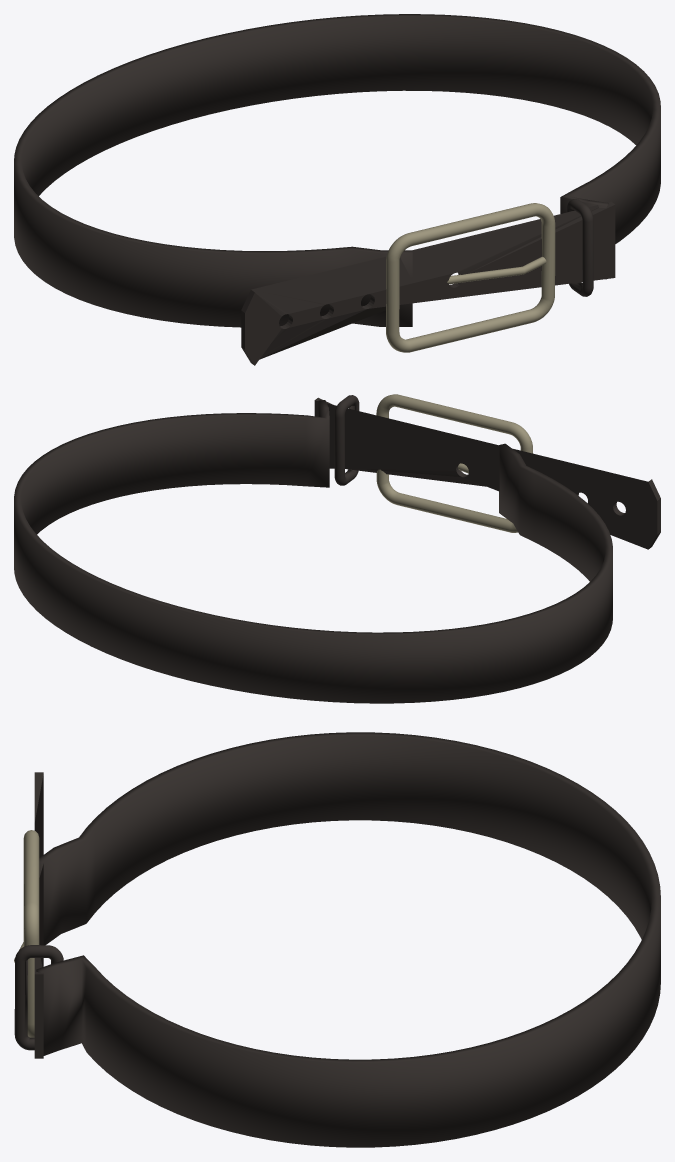
The model's file is A-NEW-20261027-WAIST-BELT-001_LOD0_R4.glb.
3 renders of one model, top to bottom at view 1: azimuth 30°, elevation 25°; view 2: azimuth 150°, elevation 25°; view 3: azimuth 270°, elevation 25°, orthographic. The views are drawn at different scales.
Visible parts, largest first — view 1: continuous main waist strap, free end adjustment tongue, open rounded buckle frame, complete strap keeper, buckle prong; view 2: continuous main waist strap, free end adjustment tongue, open rounded buckle frame, complete strap keeper; view 3: continuous main waist strap, open rounded buckle frame, free end adjustment tongue, complete strap keeper.
Part boxes in pixels (<box>): continuous main waist strap: <box>14,14,660,327</box>; free end adjustment tongue: <box>241,201,615,365</box>; open rounded buckle frame: <box>386,203,555,352</box>; complete strap keeper: <box>566,199,593,296</box>; buckle prong: <box>447,256,546,284</box>; continuous main waist strap: <box>14,400,612,703</box>; free end adjustment tongue: <box>314,397,660,549</box>; open rounded buckle frame: <box>376,394,532,532</box>; complete strap keeper: <box>334,395,359,485</box>; continuous main waist strap: <box>36,732,660,1147</box>; open rounded buckle frame: <box>23,830,39,1037</box>; free end adjustment tongue: <box>34,772,43,1058</box>; complete strap keeper: <box>14,945,63,1050</box>.
Bounding box in the file's own units: 0.3034 × 0.058 × 0.2505.
